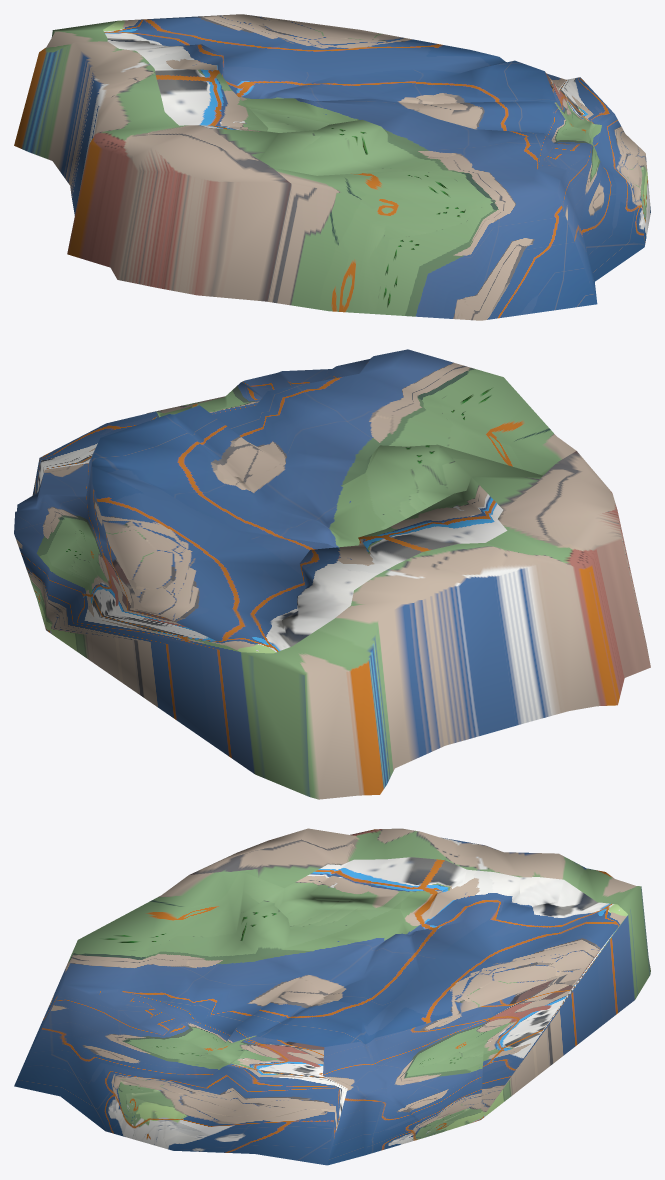
Rendered from forest.fbx.
3 renders of one model, top to bottom at view 1: azimuth 30°, elevation 25°; view 2: azimuth 150°, elevation 25°; view 3: azimuth 270°, elevation 25°, orthographic. The views are drawn at different scales.
Visible parts, largest first — view 1: forest; view 2: forest; view 3: forest.
Boxes of the visible parts, bbox=[...] form: forest: bbox=[14, 14, 650, 320]; forest: bbox=[14, 349, 650, 799]; forest: bbox=[14, 828, 650, 1165].
Size of the model in its own units: 19767 by 4755 by 21733.
